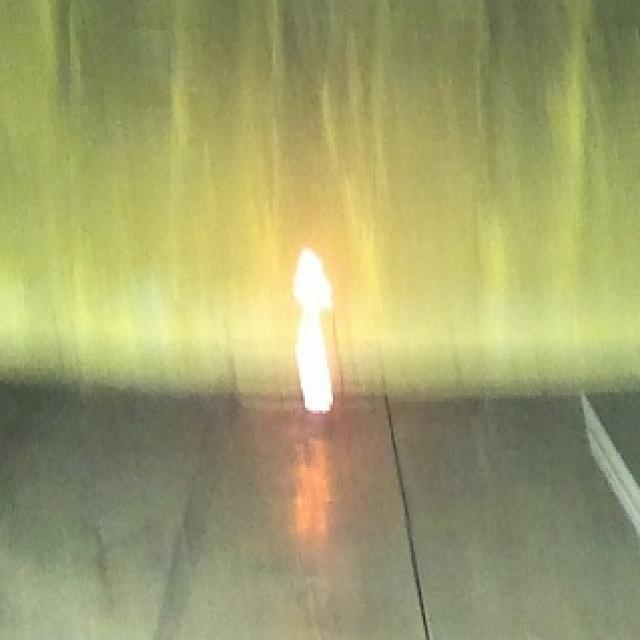Fire: (292, 246, 335, 414)
